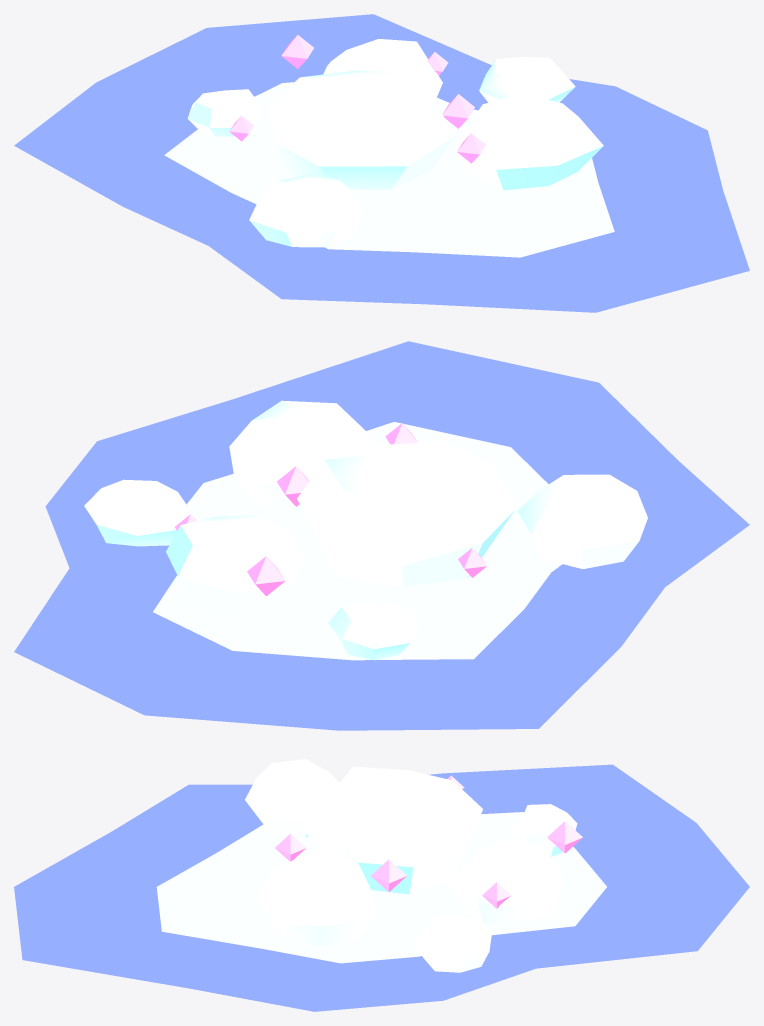
The model's file is irregular_galaxy.glb.
3 views of the same model, one above another, from view 1: azimuth 30°, elevation 25°; view 2: azimuth 150°, elevation 25°; view 3: azimuth 270°, elevation 25° (orthographic). The views are drawn at different scales.
Parts seen in each view (by area): view 1: body; view 2: body; view 3: body.
Boxes of the visible parts, x1,y1,x2,y2 form: body: (14, 14, 749, 312); body: (14, 341, 749, 730); body: (14, 759, 749, 1011).
Bounding box in the file's own units: 179 × 33.29 × 226.
